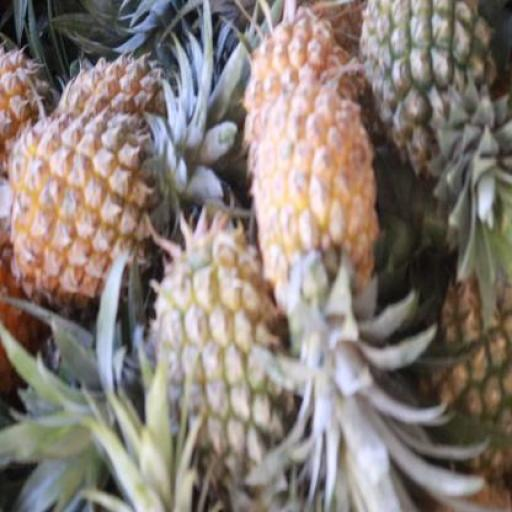------------------------------: (139, 229, 284, 479), (358, 0, 491, 181)
Pineapple - v8 v1: (258, 89, 370, 332), (9, 120, 147, 300)
